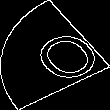O_SE: (11, 22, 99, 88)
